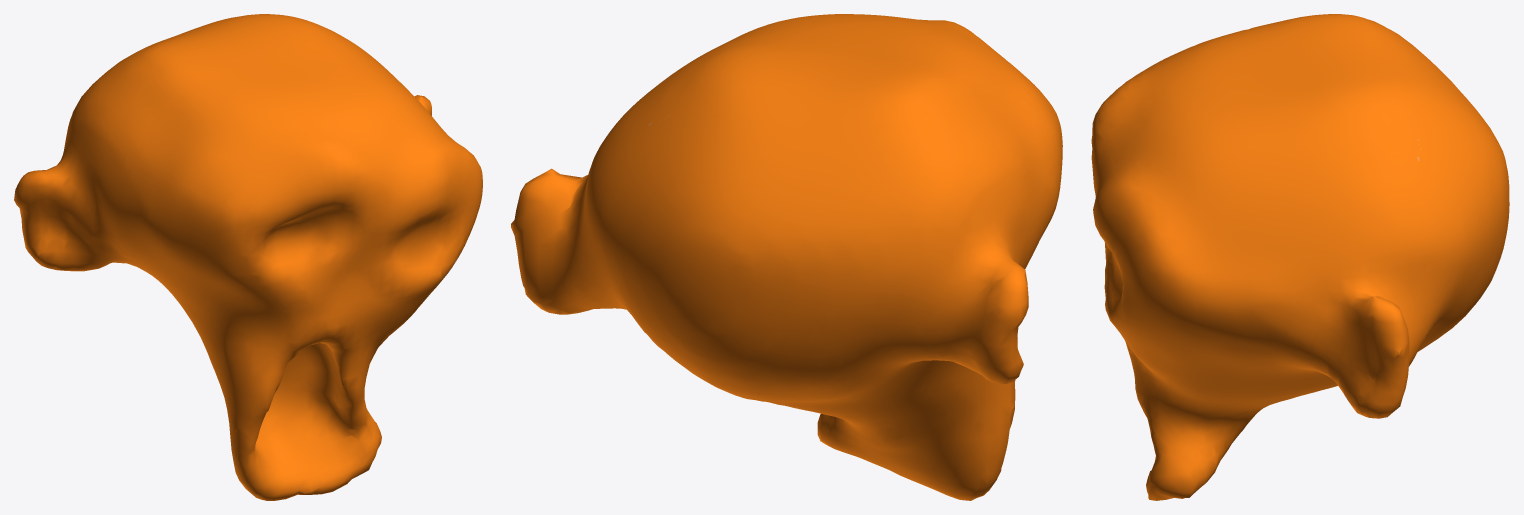
Rendered from Despair 1.fbx.
The picture shows the model from 3 angles, left to right: view 1: azimuth 30°, elevation 25°; view 2: azimuth 150°, elevation 25°; view 3: azimuth 270°, elevation 25°; orthographic projection. The views are drawn at different scales.
Parts seen in each view (by area): view 1: Suzanne; view 2: Suzanne; view 3: Suzanne.
Part boxes in pixels (left/top/right/bottom): Suzanne: left=14, top=14, right=482, bottom=500; Suzanne: left=511, top=14, right=1062, bottom=500; Suzanne: left=1091, top=14, right=1509, bottom=500.
Size of the model in its own units: 1003 by 920 by 798.
